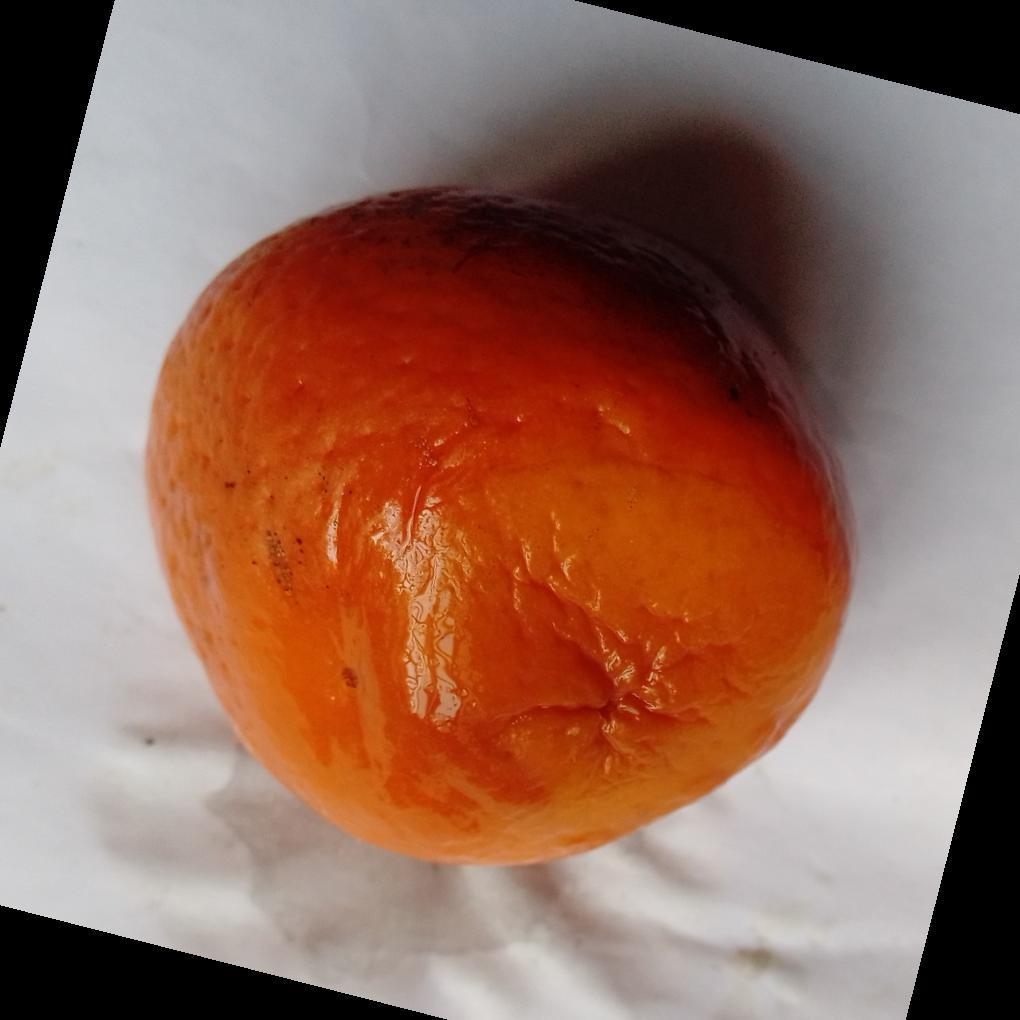FreshOrange: (143, 188, 854, 871)
